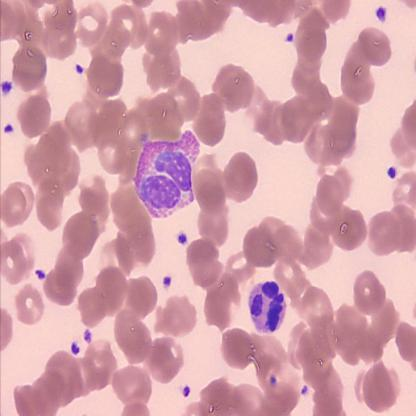Eosinophil: (135, 129, 206, 224)
